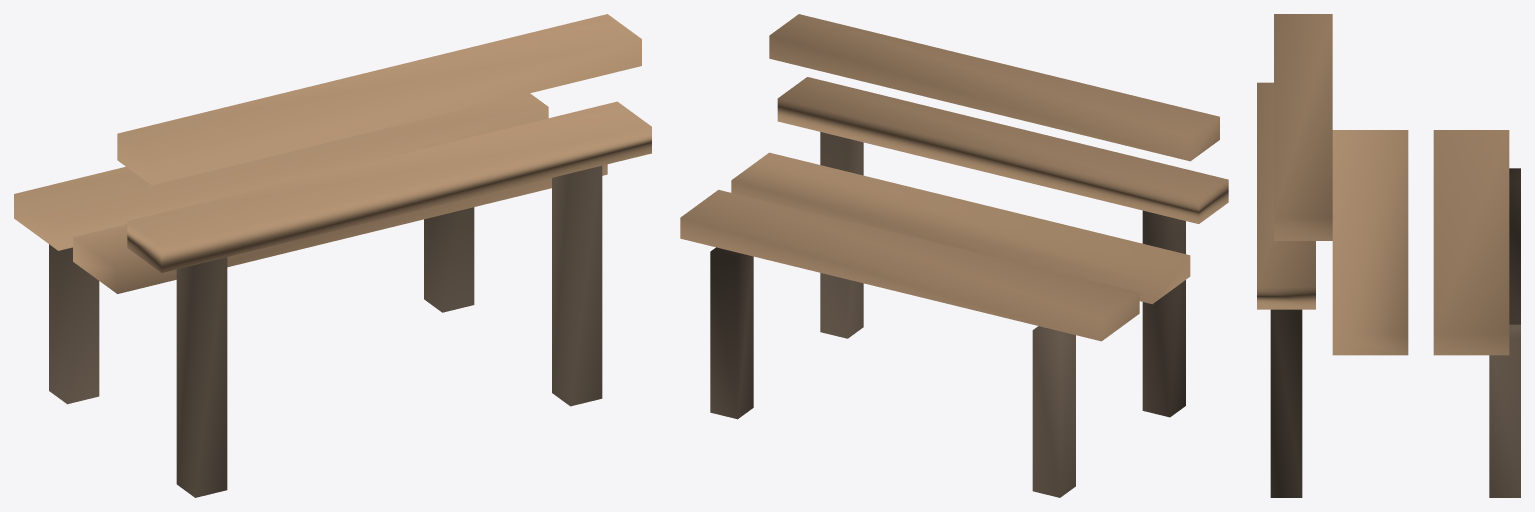
Rendered from park_bench.glb.
3 renders of one model, left to right at view 1: azimuth 30°, elevation 25°; view 2: azimuth 150°, elevation 25°; view 3: azimuth 270°, elevation 25°, orthographic. The views are drawn at different scales.
Parts seen in each view (by area): view 1: park_bench; view 2: park_bench; view 3: park_bench.
Boxes of the visible parts, <box> form: park_bench: <box>14,14,651,497</box>; park_bench: <box>680,14,1228,497</box>; park_bench: <box>1257,14,1520,497</box>.
Bounding box in the file's own units: 1.15 × 0.78 × 0.6275.
